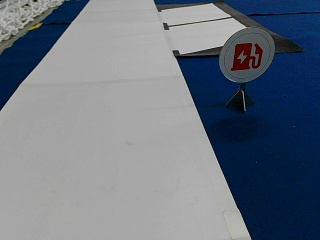battery: (218, 27, 274, 82)
